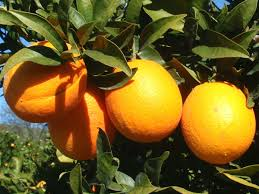orange: (102, 55, 183, 142), (4, 40, 87, 123), (178, 78, 256, 164), (48, 85, 116, 160)
